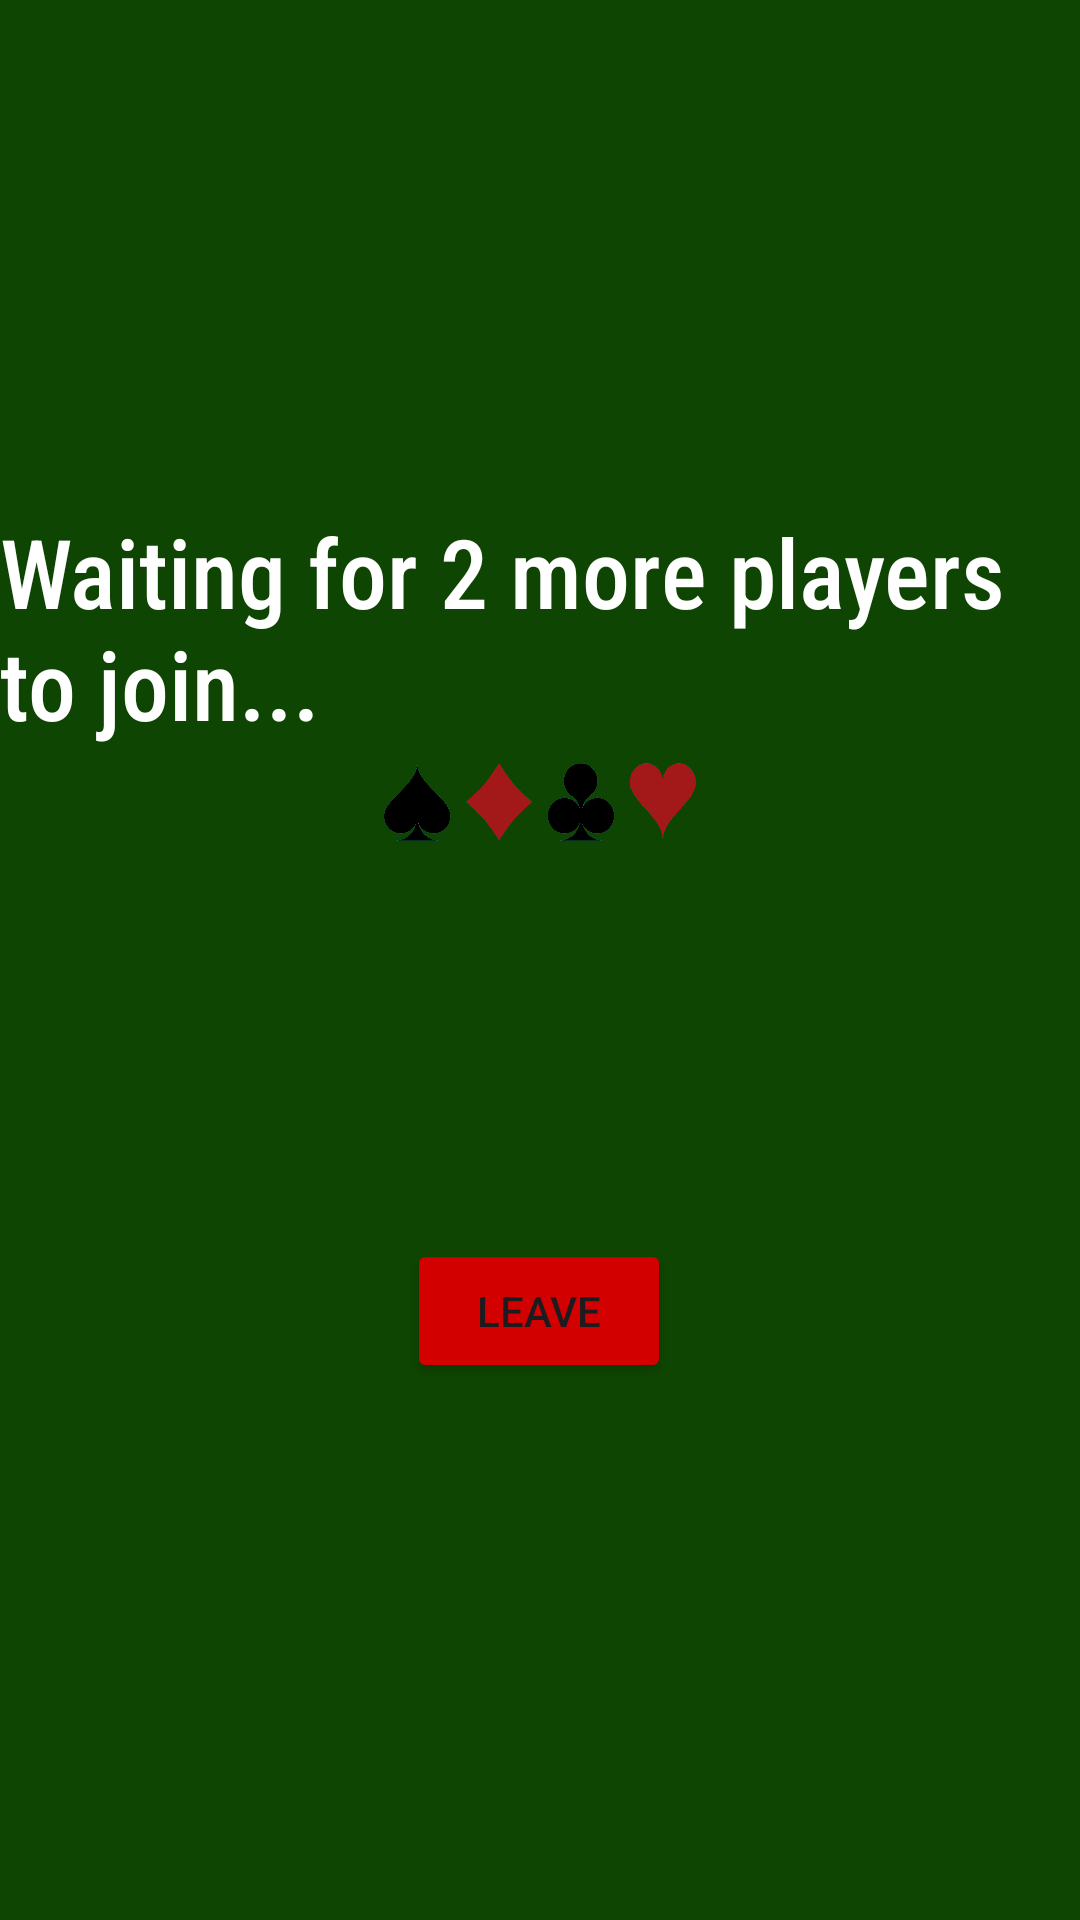

Point at icon controls on the screen. Image size 1080 x 1920, points as point (x, y).
cards: point (540, 802)
